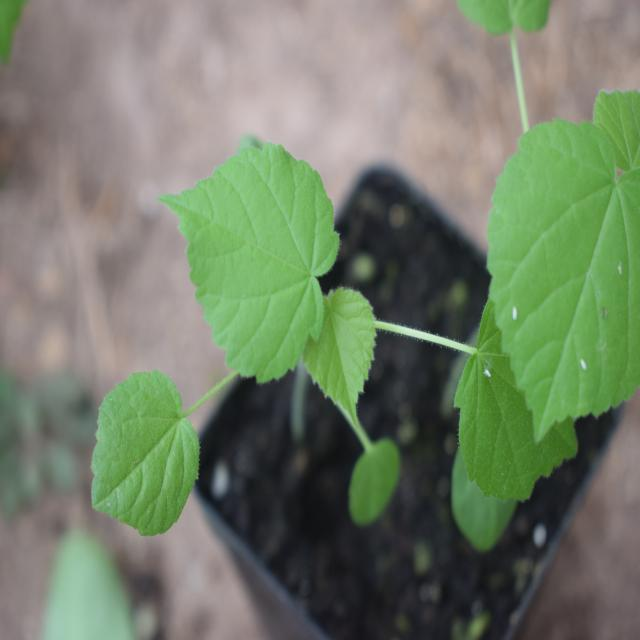abutilon theophrasti: (110, 147, 526, 557)
